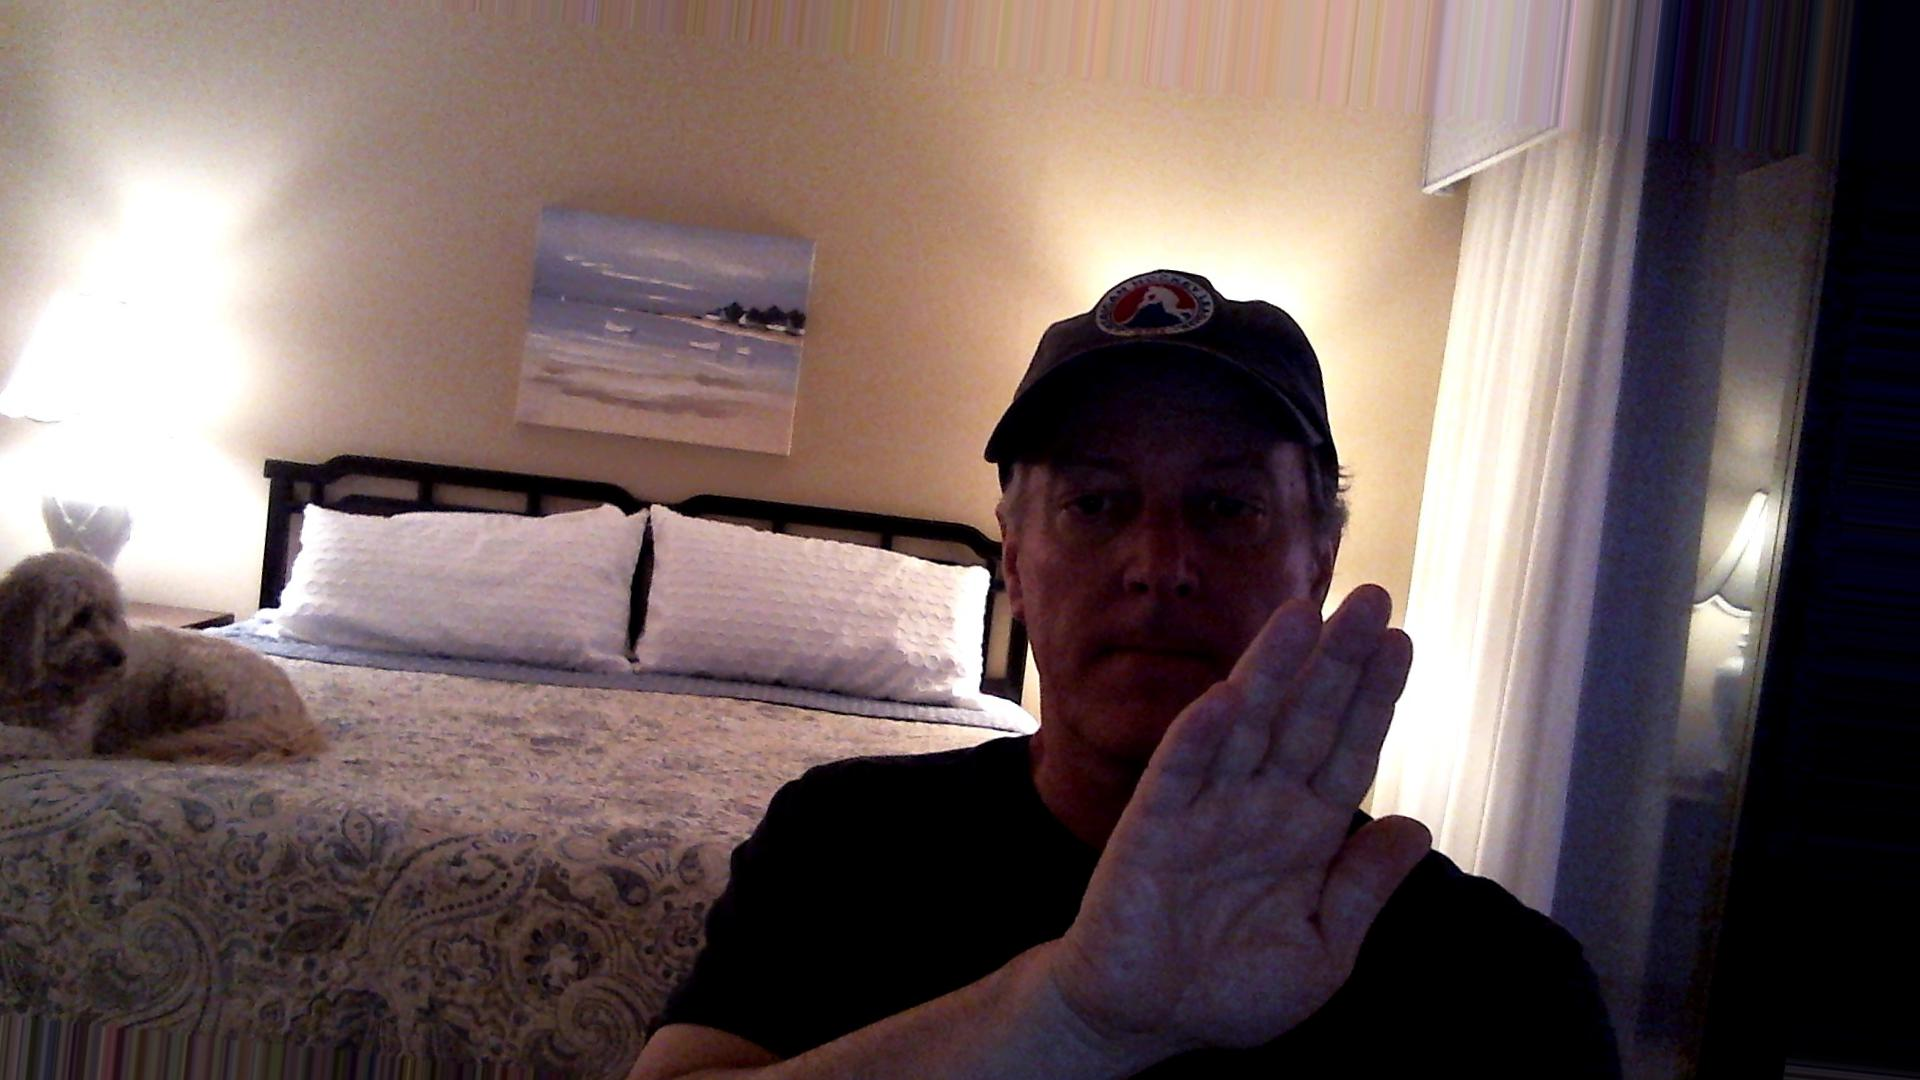Hello: (1055, 566, 1457, 1058)
